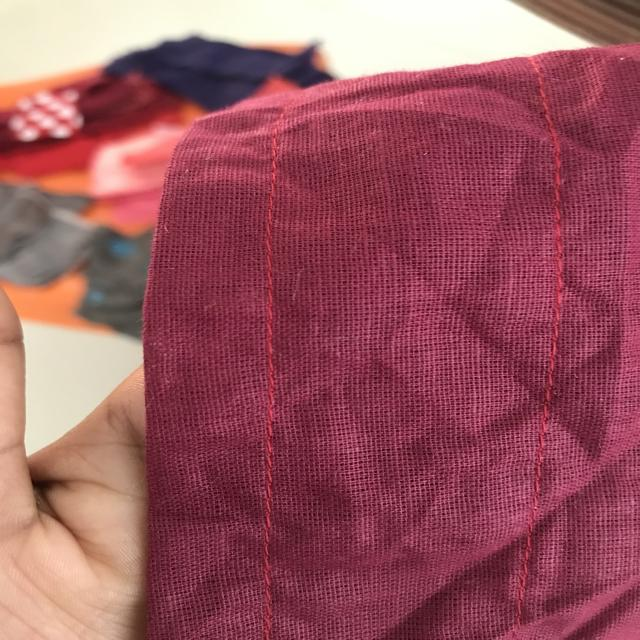good: (242, 348, 308, 482)
